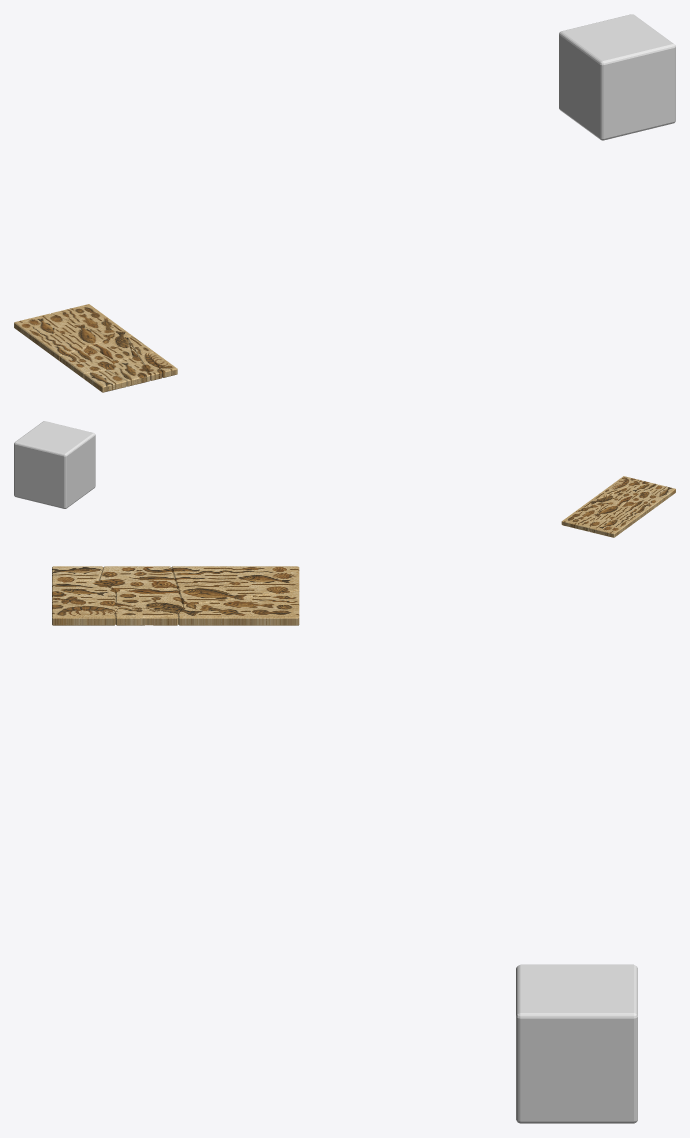
The model's file is FishMosaicShattered.fbx.
3 views of the same model, one above another, from view 1: azimuth 30°, elevation 25°; view 2: azimuth 150°, elevation 25°; view 3: azimuth 270°, elevation 25° (orthographic). The views are drawn at different scales.
Parts seen in each view (by area): view 1: Cube.030, Plane_cell.003, Plane_cell.001, Plane_cell.002_cell.004, Plane_cell.002_cell.002, Plane_cell.002_cell.003, Plane_cell.002_cell; view 2: Cube.030, Plane_cell.003, Plane_cell.001, Plane_cell.002_cell.004, Plane_cell.002_cell.002, Plane_cell.002_cell.003, Plane_cell.002_cell; view 3: Cube.030, Plane_cell.003, Plane_cell.001, Plane_cell.002_cell.004, Plane_cell.002_cell.002, Plane_cell.002_cell.003, Plane_cell_cell, Plane_cell_cell.002.
Boxes of the visible parts, x1,y1,x2,y2 form: Cube.030: [559, 14, 675, 140]; Plane_cell.003: [14, 313, 112, 361]; Plane_cell.001: [51, 304, 132, 338]; Plane_cell.002_cell.004: [60, 346, 115, 378]; Plane_cell.002_cell.002: [106, 357, 150, 386]; Plane_cell.002_cell.003: [90, 337, 132, 361]; Plane_cell.002_cell: [84, 370, 126, 392]; Cube.030: [14, 421, 95, 508]; Plane_cell.003: [589, 503, 645, 537]; Plane_cell.001: [561, 499, 602, 531]; Plane_cell.002_cell.004: [622, 494, 662, 514]; Plane_cell.002_cell.002: [621, 480, 658, 494]; Plane_cell.002_cell.003: [597, 491, 633, 506]; Plane_cell.002_cell: [650, 484, 675, 501]; Cube.030: [516, 964, 637, 1123]; Plane_cell.003: [171, 566, 299, 606]; Plane_cell.001: [178, 591, 299, 625]; Plane_cell.002_cell.004: [99, 566, 177, 593]; Plane_cell.002_cell.002: [52, 580, 115, 606]; Plane_cell.002_cell.003: [115, 588, 183, 614]; Plane_cell_cell: [52, 607, 115, 625]; Plane_cell_cell.002: [114, 607, 178, 625].
Bounding box in the file's own units: 1954 × 200 × 960.
Materials: 1 (1 with a texture image).
